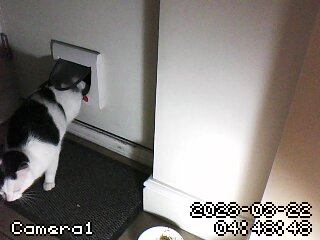bad: (5, 60, 90, 211)
